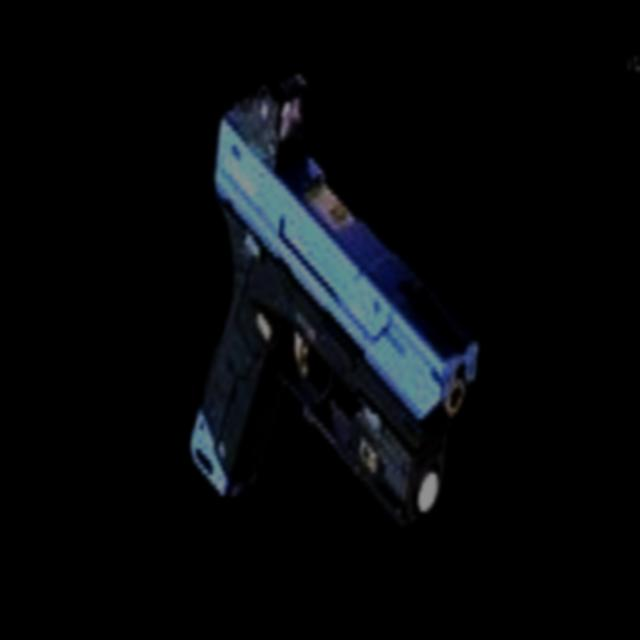semi automatic: (164, 50, 518, 578)
